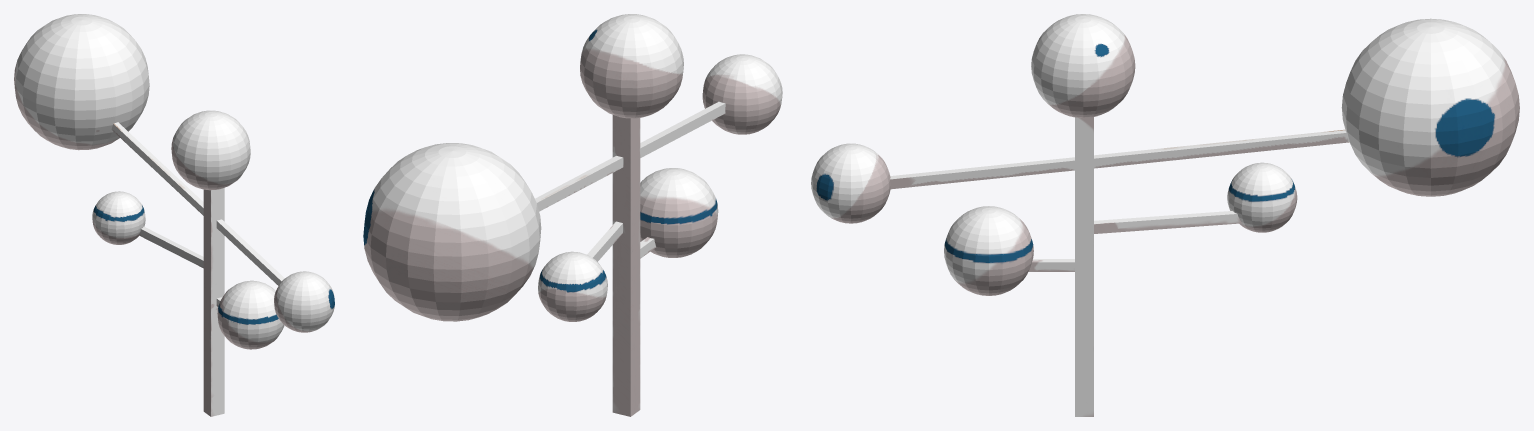
The model's file is building_fiveball.fbx.
The picture shows the model from 3 angles, left to right: view 1: azimuth 30°, elevation 25°; view 2: azimuth 150°, elevation 25°; view 3: azimuth 270°, elevation 25°; orthographic projection. The views are drawn at different scales.
Visible parts, largest first — view 1: headusOBJexport; view 2: headusOBJexport; view 3: headusOBJexport.
Boxes of the visible parts, x1=… form: headusOBJexport: x1=14, y1=14, x2=334, y2=416; headusOBJexport: x1=363, y1=14, x2=782, y2=416; headusOBJexport: x1=811, y1=14, x2=1519, y2=416.
Size of the model in its own units: 8.85 by 21.47 by 35.23.
